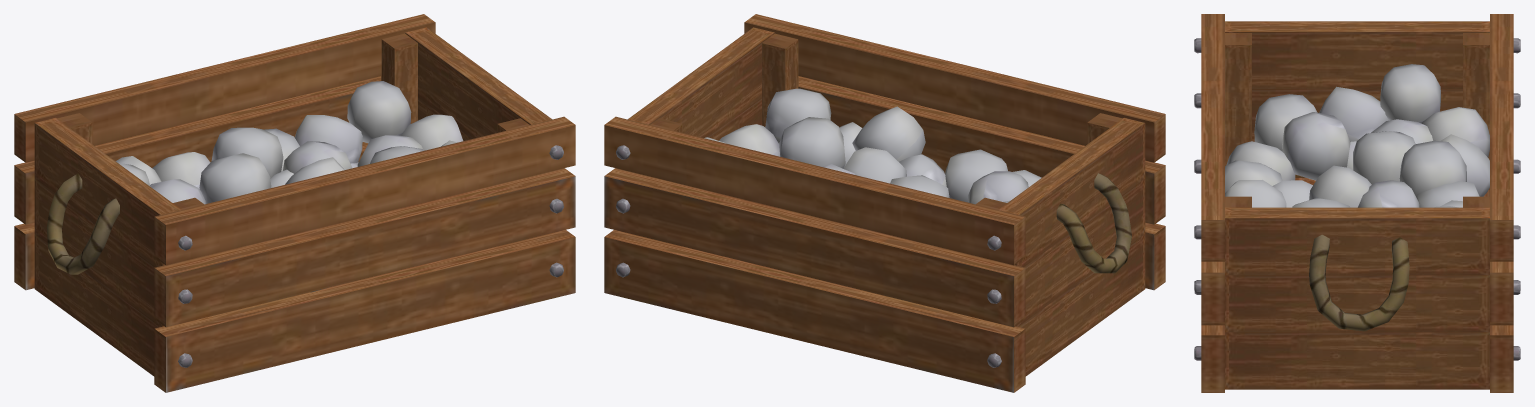
Rendered from crate-qp-farmcrateapple.glb.
3 renders of one model, left to right at view 1: azimuth 30°, elevation 25°; view 2: azimuth 150°, elevation 25°; view 3: azimuth 270°, elevation 25°, orthographic. The views are drawn at different scales.
Parts seen in each view (by area): view 1: Cylinder_057; view 2: Cylinder_057; view 3: Cylinder_057.
Boxes of the visible parts, x1,y1,x2,y2 form: Cylinder_057: (14,14,575,392); Cylinder_057: (604,14,1165,392); Cylinder_057: (1194,14,1520,392).
Bounding box in the file's own units: 0.7138 × 0.2438 × 0.4142.
3 materials, 3 textured.
